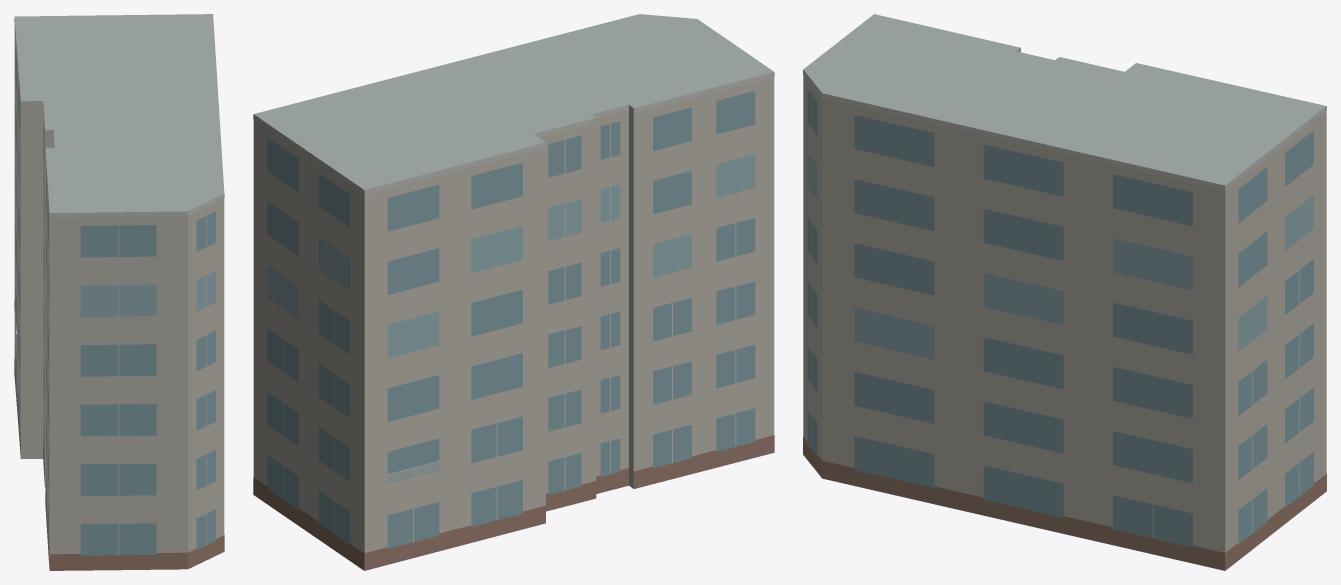
Rendered from survey-upis-32873651.glb.
3 views of the same model, side by side, from view 1: azimuth 30°, elevation 25°; view 2: azimuth 150°, elevation 25°; view 3: azimuth 270°, elevation 25° (orthographic). The views are drawn at different scales.
Visible parts, largest first — view 1: survey-upis-32873651.tmp; view 2: survey-upis-32873651.tmp; view 3: survey-upis-32873651.tmp.
Part boxes in pixels (x1,y1,x2,y2): survey-upis-32873651.tmp: (14,14,224,570); survey-upis-32873651.tmp: (253,14,774,570); survey-upis-32873651.tmp: (803,14,1326,570).
Size of the model in its own units: 17.01 by 17.8 by 21.93.
